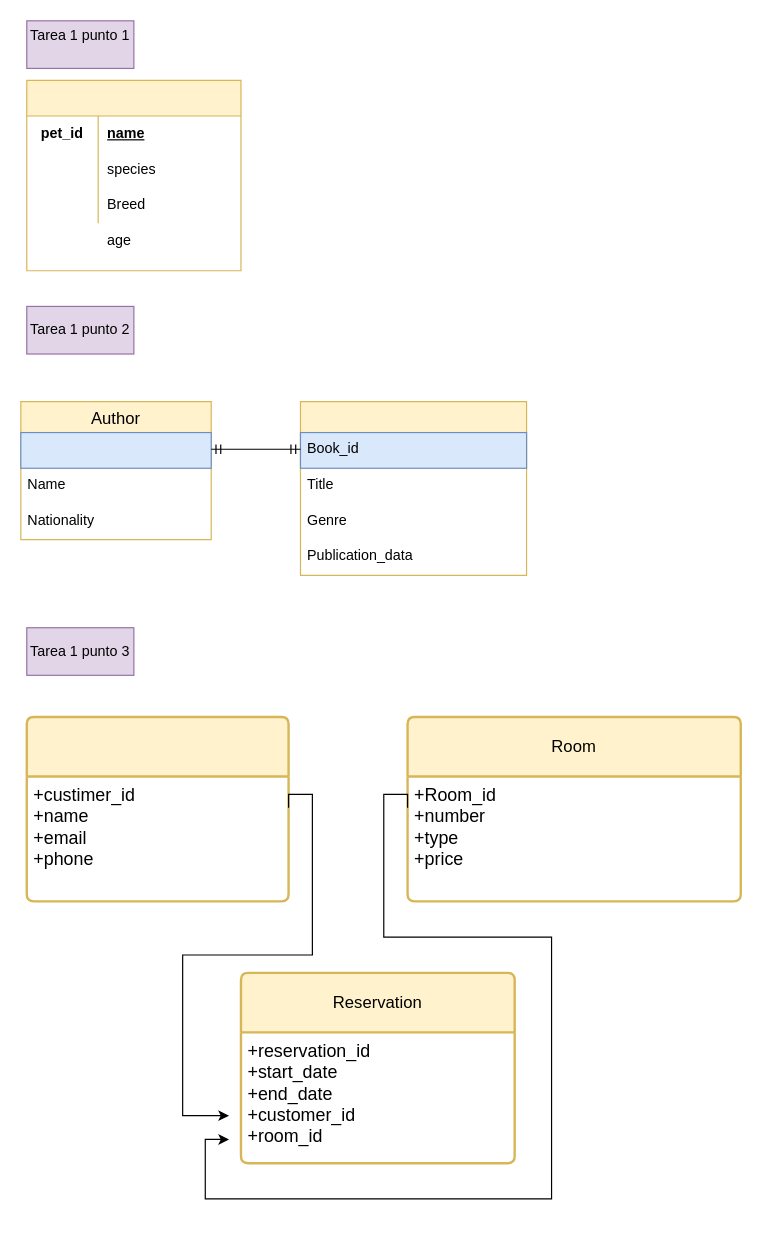
Image size: 763x1233. Some labels were removed from this diagram. The box of each missing label's shape, as (x1, y1, x2, y2) in pixels:
Author_id: (20, 431, 211, 468)
Books: (299, 400, 527, 575)
Customer: (25, 715, 289, 902)
Pet Store: (26, 79, 241, 271)
